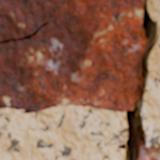brick: (0, 0, 145, 112)
broken_brick: (145, 145, 159, 159)
crack: (0, 1, 159, 159)
